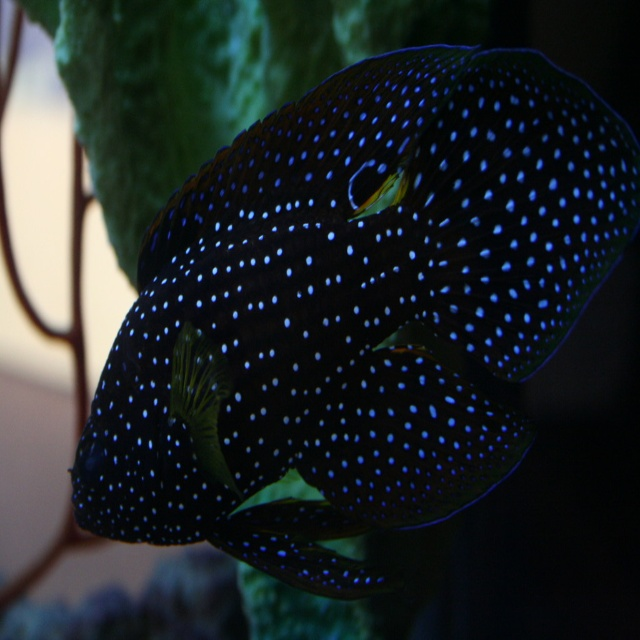Fish: (72, 49, 640, 597)
